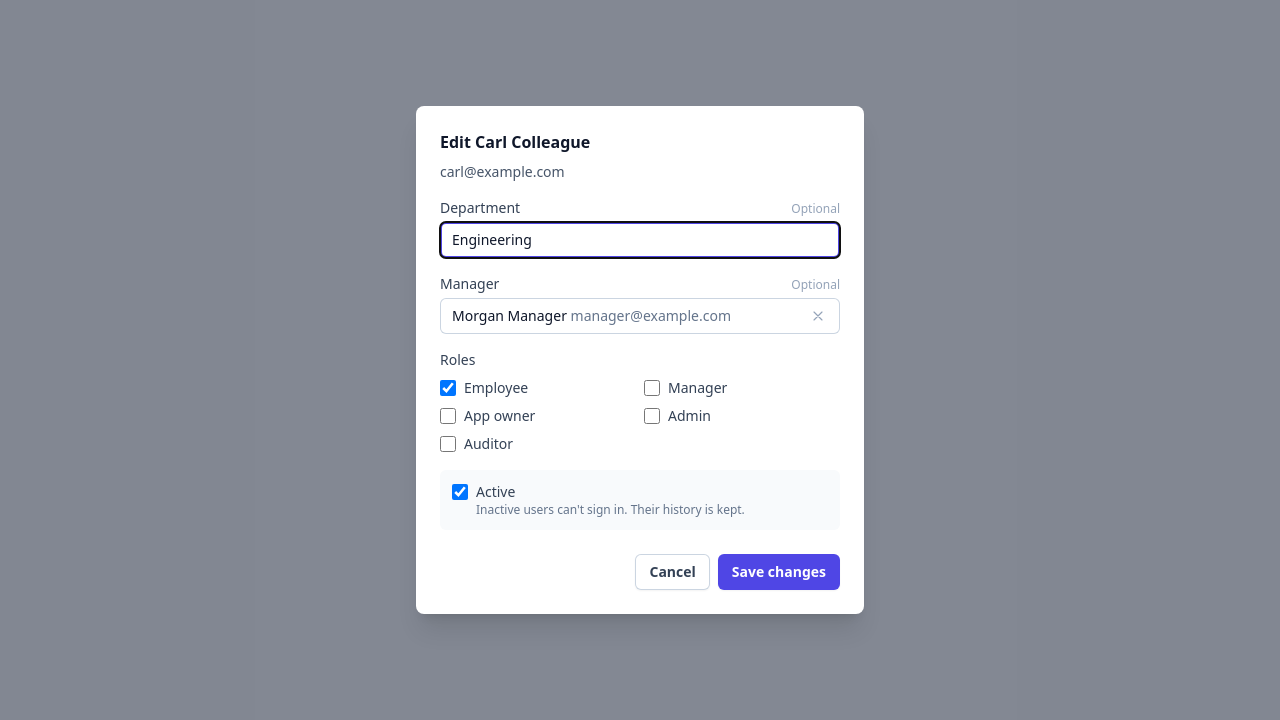
Test case: EditUserModal › shows lockout errors at the top of the form
The width and height of the screenshot is (1280, 720).
Click the checkbox labelled "Auditor": (448, 444) [440,436,456,452]
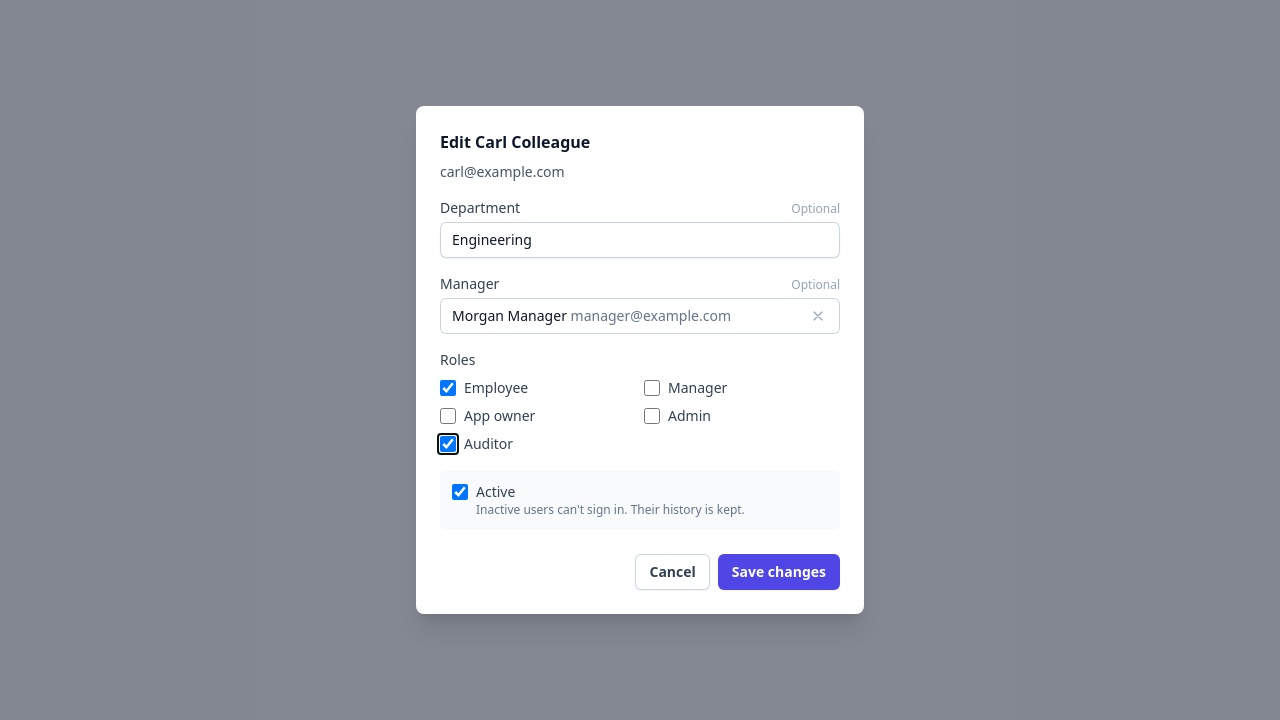
Click the button "Save changes": (779, 572) [718,554,840,590]
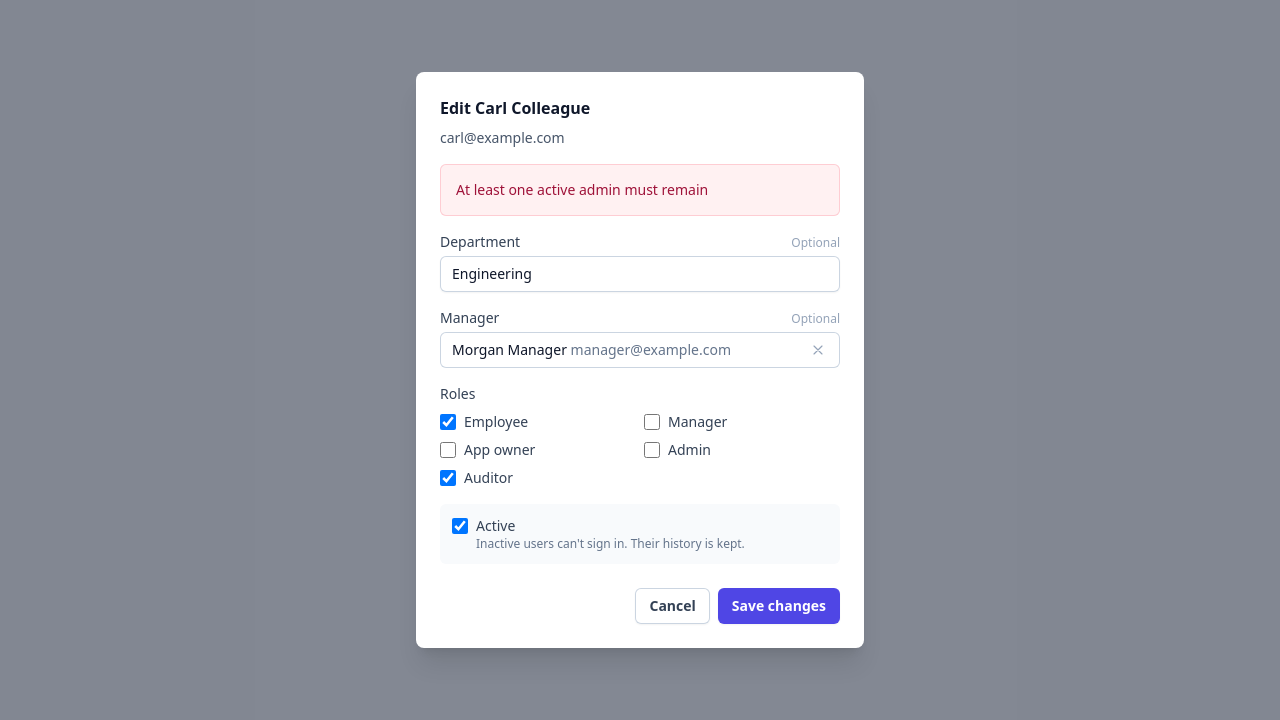
Result: the message reads "At least one active admin must remain" at [456,180,708,199]
